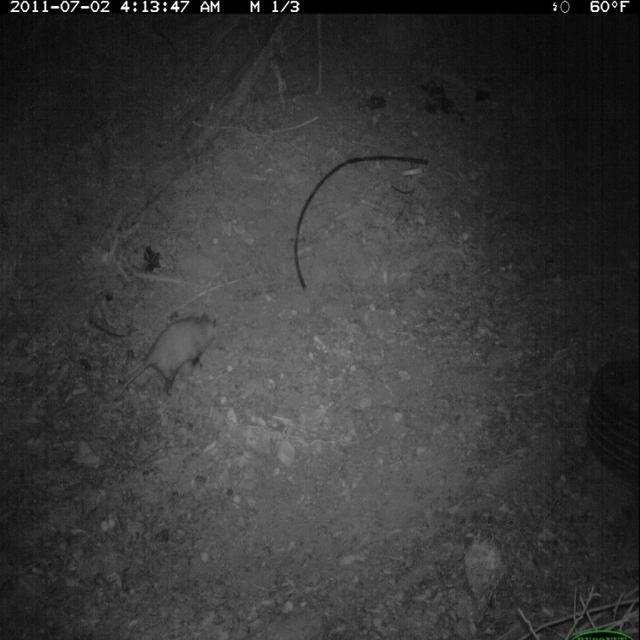opossum: (108, 309, 223, 414)
